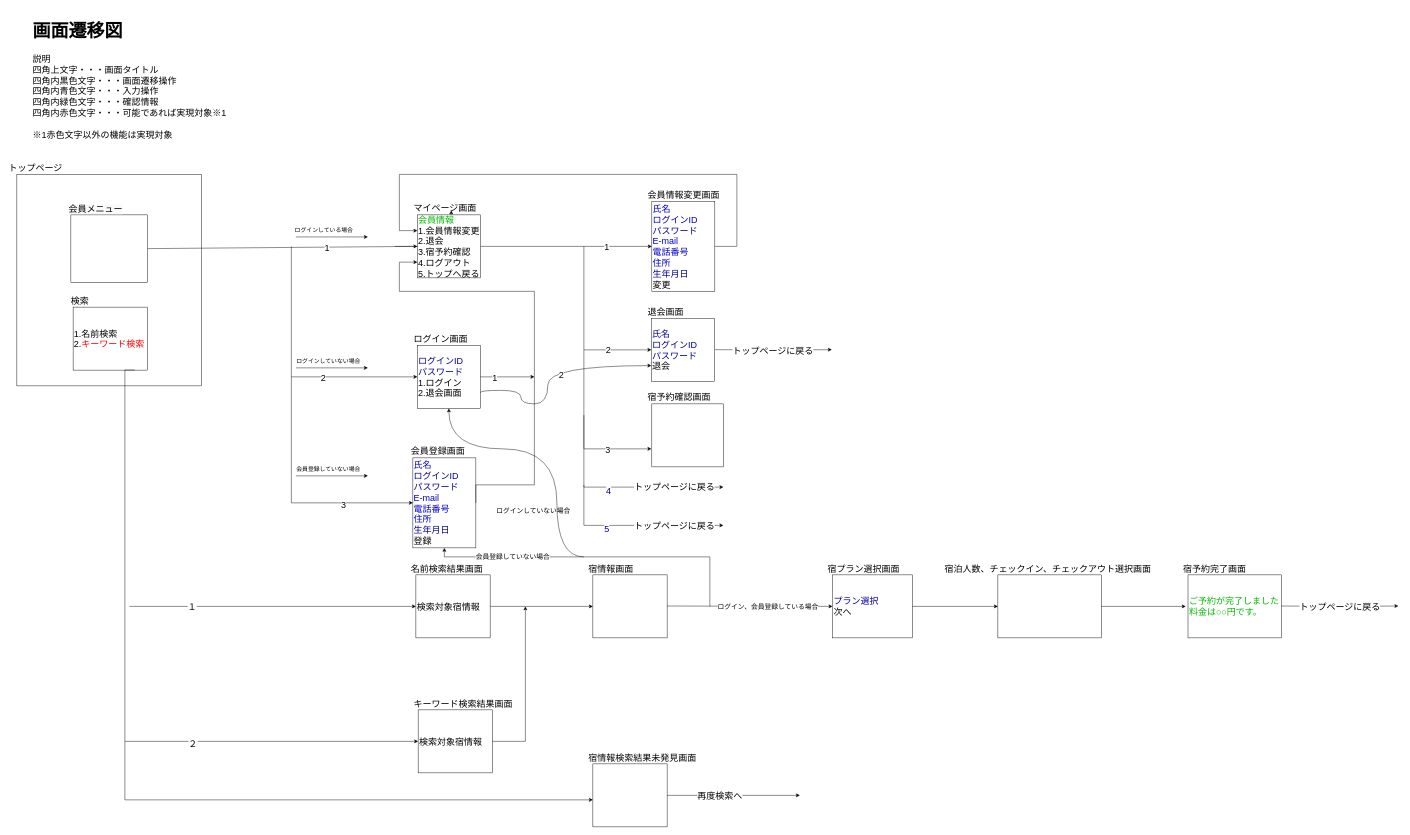
This 1410x835 diagram has some shape labels left out. Here are the shapes that lost their labels. From the top down, the box of each, then its label:
(70, 214, 147, 282): 1.マイページ 2.ログイン 3.会員登録
(651, 403, 723, 467): 宿予約情報 予約変更 予約キャンセル
(592, 574, 667, 638): 宿情報 空き状況の確認 予約画面へ
(997, 574, 1101, 638): 宿泊人数選択 チェックイン時間選択 チェックアウト時間選択 予約
(592, 763, 667, 827): 該当するホテルがありません。
